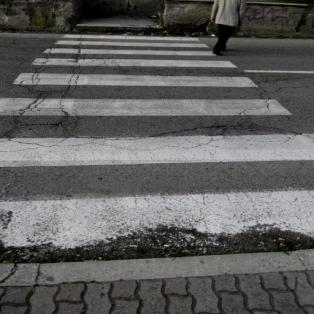Paso de Cebra: (0, 124, 314, 259), (11, 57, 266, 94)
